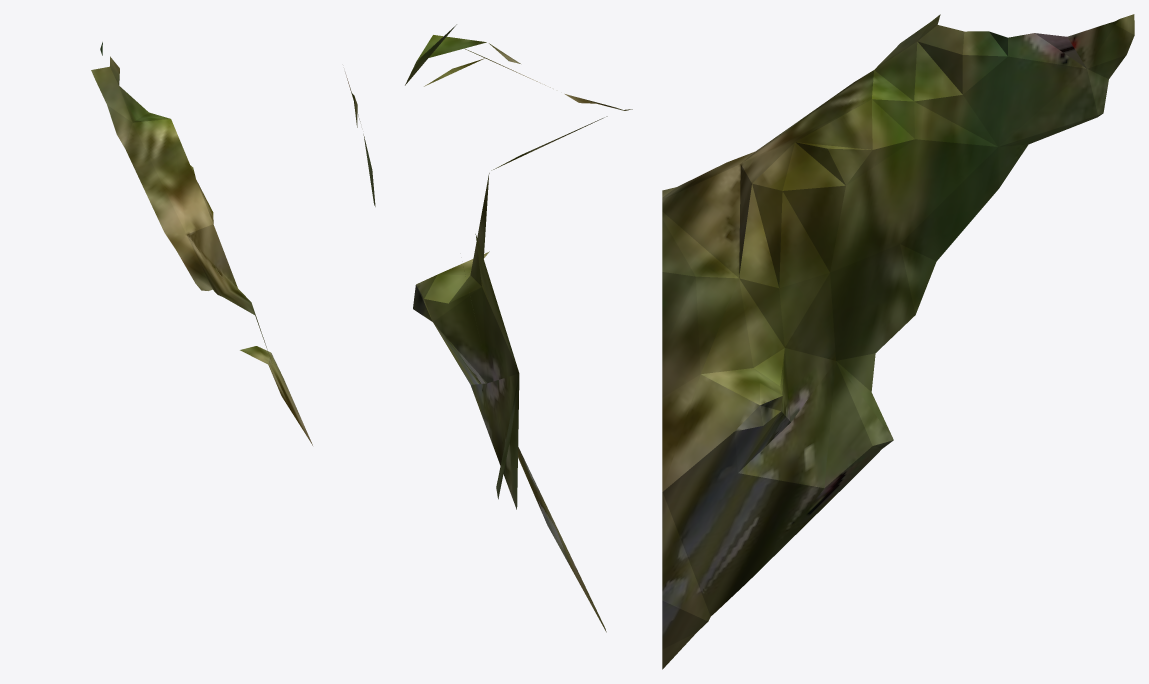
3 renders of one model, left to right at view 1: azimuth 30°, elevation 25°; view 2: azimuth 150°, elevation 25°; view 3: azimuth 270°, elevation 25°, orthographic. The views are drawn at different scales.
Bounding box in the file's own units: 0.1569 × 0.6923 × 0.4519.
Materials: 1 (1 with a texture image).
